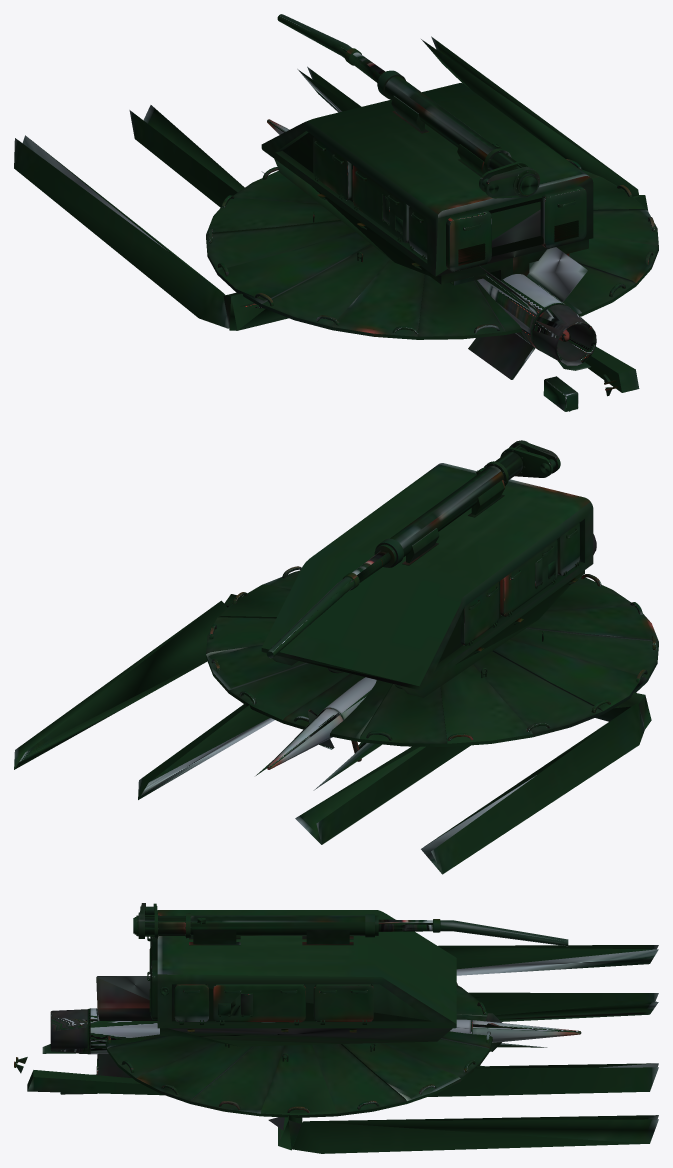
3 renders of one model, top to bottom at view 1: azimuth 30°, elevation 25°; view 2: azimuth 150°, elevation 25°; view 3: azimuth 270°, elevation 25°, orthographic. The views are drawn at different scales.
Parts seen in each view (by area): view 1: turret|Material, body|Material, cradle|Material, booster|Material (×2); view 2: turret|Material, body|Material, cradle|Material, missile|Material; view 3: turret|Material, cradle|Material, body|Material, booster|Material (×2), missile|Material.
Part boxes in pixels (box(x1,y1,x2,y2)): turret|Material: box(261, 14, 593, 285); body|Material: box(206, 159, 658, 339); cradle|Material: box(14, 36, 647, 330); booster|Material (×2): box(468, 247, 639, 411); turret|Material: box(261, 440, 593, 697); body|Material: box(206, 566, 658, 746); cradle|Material: box(14, 594, 651, 874); missile|Material: box(267, 677, 376, 769); turret|Material: box(133, 903, 568, 1046); cradle|Material: box(268, 945, 658, 1153); body|Material: box(105, 982, 492, 1117); booster|Material (×2): box(14, 976, 164, 1095); missile|Material: box(450, 1013, 581, 1051).
Size of the model in its own units: 4.95 by 2.25 by 7.3.
7 materials, 7 textured.
